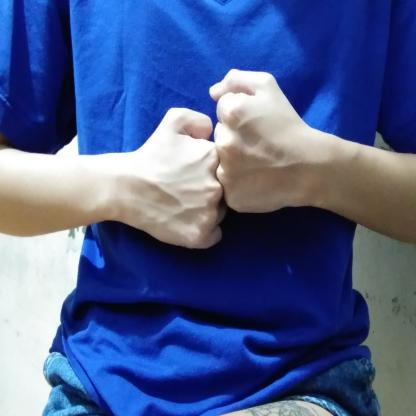brother: (120, 59, 320, 259)
